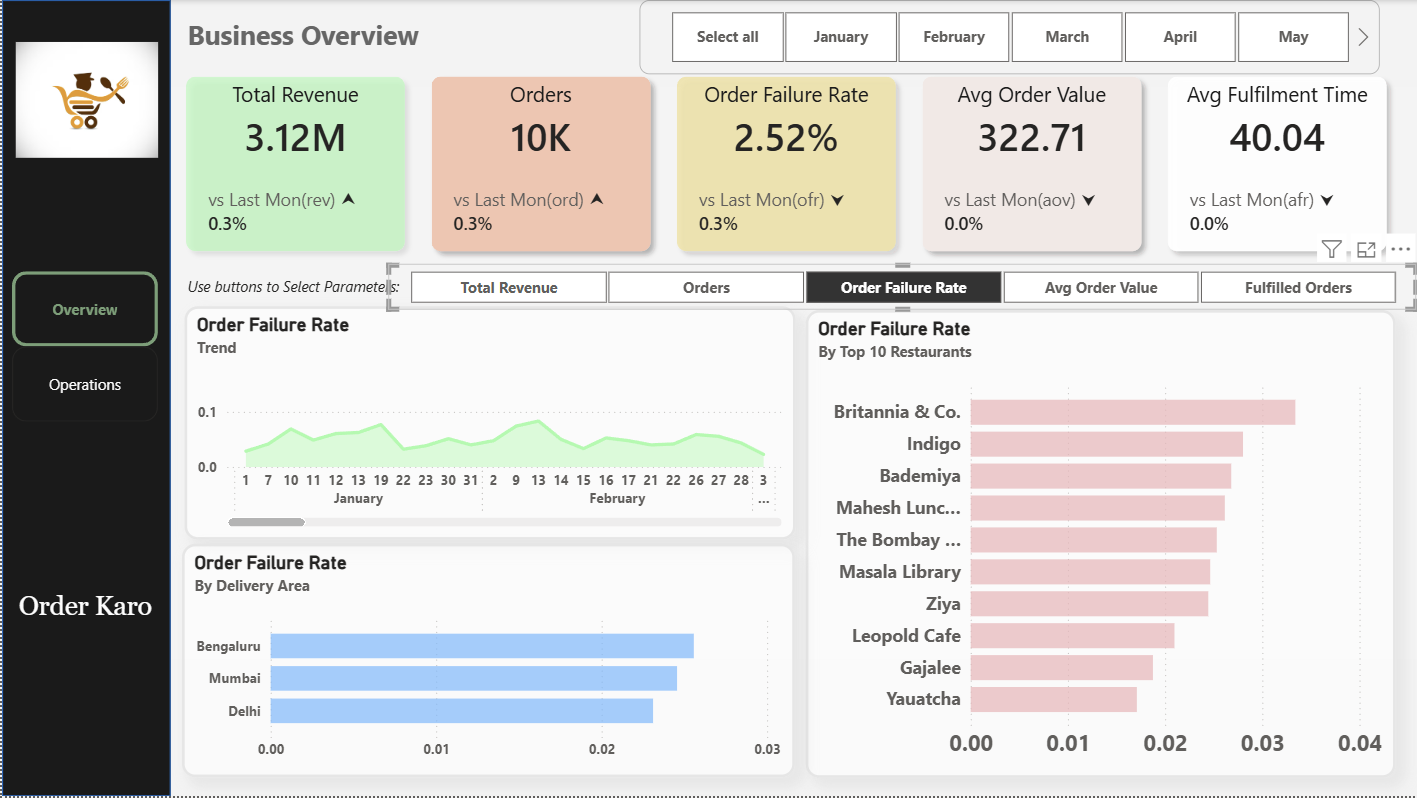

What the dashboard file says about the page in this screenshot:
{"tool":"powerbi","page":{"name":"Overview","canvas":[1280,720],"ordinal":0},"visuals":[{"type":"shape","box":[0,0,152.6,720.2],"z":0,"group":"g1"},{"type":"group","id":"g1","title":"Group 1","box":[0,0,152.6,720.2],"z":0},{"type":"cardVisual","fields":{"Data":["fooddelivery orders.Total Revenue","fooddelivery orders.Total Orders","fooddelivery orders.Order Failure Rate","fooddelivery orders.Avg Order Value","fooddelivery deliveries.Avg Fulfilment Time"]},"box":[142.5,45.2,1137.4,206.9],"z":1000},{"type":"lineChart","fields":{"Category":["DateTable.Date.Variation.Date Hierarchy.Month","DateTable.Date.Variation.Date Hierarchy.Day"],"Y":["fooddelivery orders.Total Revenue"]},"box":[164.7,277.2,553,211.5],"z":2000},{"type":"slicer","fields":{"Values":["Parameters:.Parameters:"]},"box":[349.4,238.6,930.5,41.8],"z":3000},{"type":"barChart","fields":{"Category":["fooddelivery restaurants.restaurant_name"],"Y":["fooddelivery orders.Total Revenue"]},"box":[727,280.4,533.7,422.9],"z":4000},{"type":"barChart","fields":{"Category":["fooddelivery restaurants.city"],"Y":["fooddelivery orders.Total Revenue"]},"box":[162.8,491.8,554,211.4],"z":5000},{"type":"textbox","box":[162.8,245.4,211.4,28.3],"z":6000},{"type":"textbox","box":[162.7,10.3,231.8,49.7],"z":7000},{"type":"image","box":[12.4,20.4,128.9,140.2],"z":8000},{"type":"pageNavigator","box":[9,245.4,132.3,137.9],"z":8000,"group":"g1"},{"type":"textbox","box":[10.2,529.1,152.6,99.5],"z":9000},{"type":"slicer","fields":{"Values":["DateTable.Date.Variation.Date Hierarchy.Month"]},"box":[577.1,0,669.5,66.9],"z":9001}]}

Visuals, with their boxes on the page's 1280x720 design canvas (x1, y1, x2, y2). These are canvas units, not pixel positions in the 1417x798 screenshot, which may show the page scaled, cropped or inside an application window:
shape: [0,0,153,720]
"Group 1" group: [0,0,153,720]
cardVisual - fooddelivery orders.Total Revenue x fooddelivery orders.Total Orders: [142,45,1280,252]
lineChart - DateTable.Date.Variation.Date Hierarchy.Month x DateTable.Date.Variation.Date Hierarchy.Day: [165,277,718,489]
slicer - Parameters:.Parameters:: [349,239,1280,280]
barChart - fooddelivery restaurants.restaurant_name x fooddelivery orders.Total Revenue: [727,280,1261,703]
barChart - fooddelivery restaurants.city x fooddelivery orders.Total Revenue: [163,492,717,703]
textbox: [163,245,374,274]
textbox: [163,10,394,60]
image: [12,20,141,161]
pageNavigator: [9,245,141,383]
textbox: [10,529,163,629]
slicer - DateTable.Date.Variation.Date Hierarchy.Month: [577,0,1247,67]
